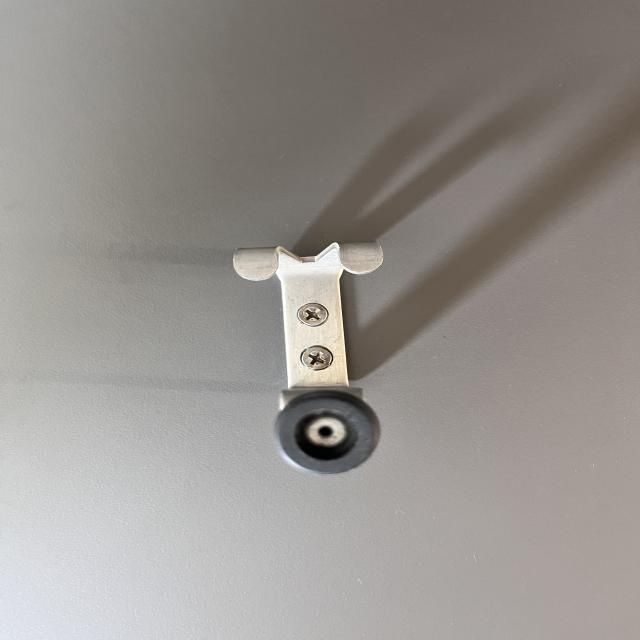phillips: (301, 345, 334, 371), (297, 303, 330, 327)
